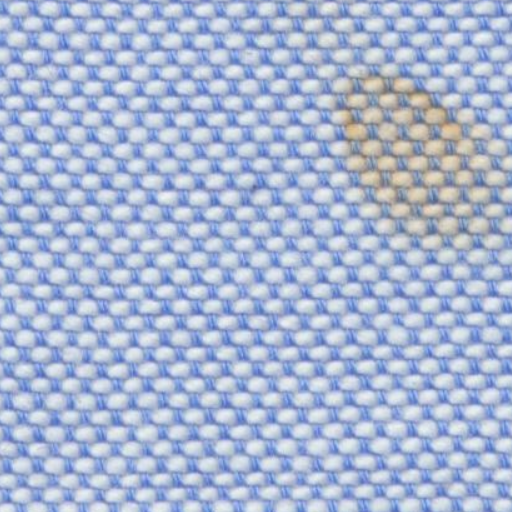WuZi: (305, 50, 502, 254)
